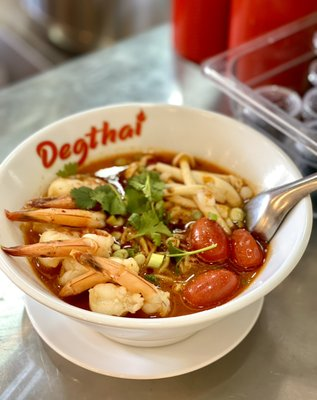sushi: (1, 94, 313, 349), (199, 9, 317, 172)
